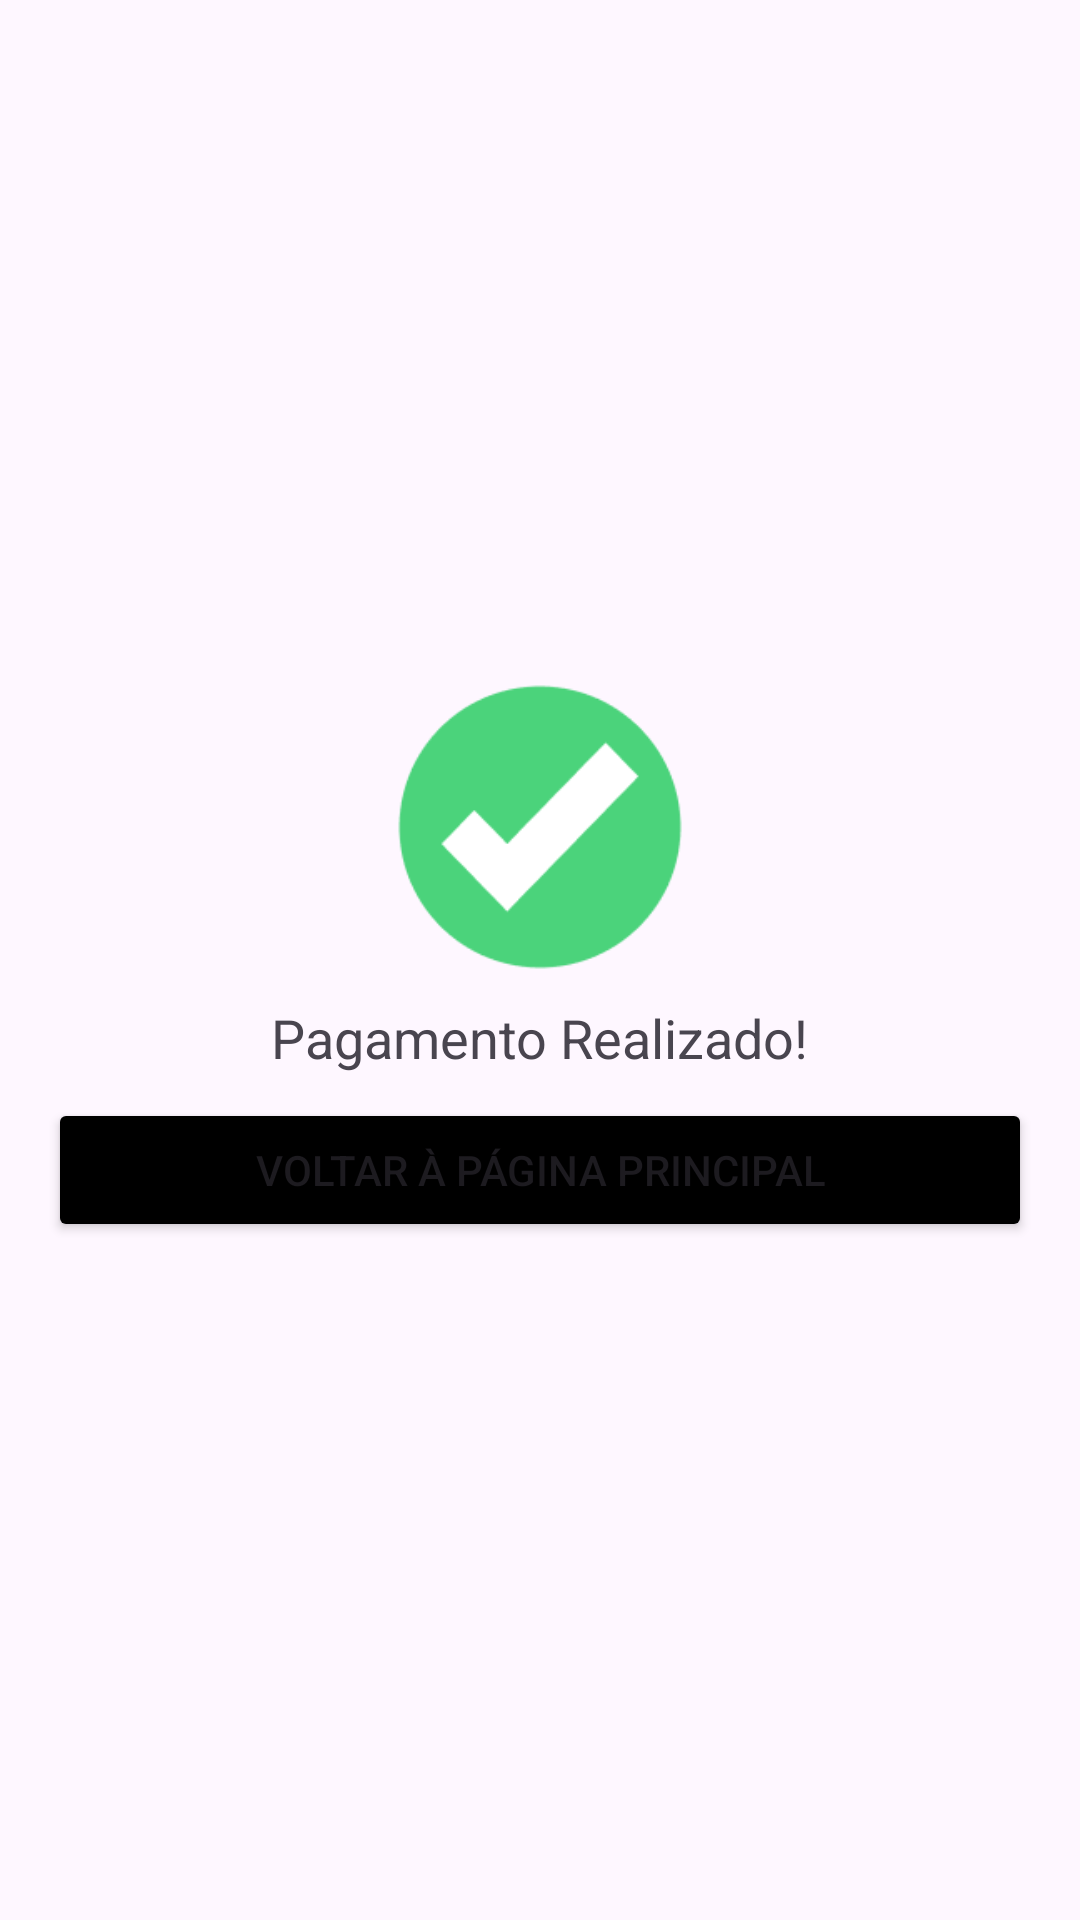

Point at icon controls on the screen. Image size 1080 × 1920, points as point (x, y).
check circle: point (540, 827)
